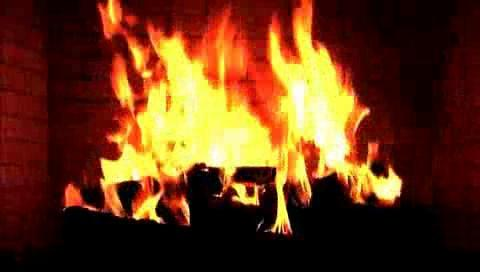fire: (54, 0, 469, 230)
